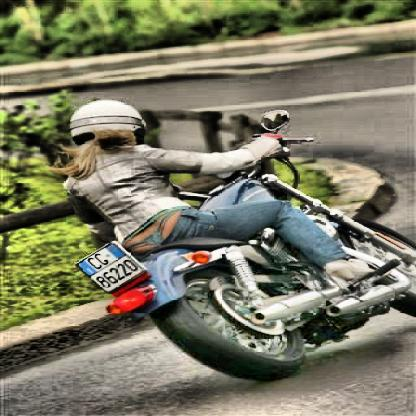wear: (70, 100, 146, 149)
